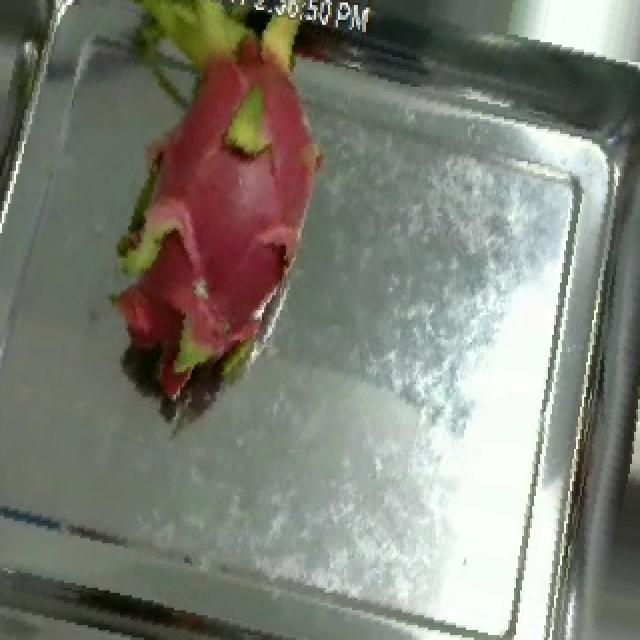fruit: (10, 0, 368, 429)
